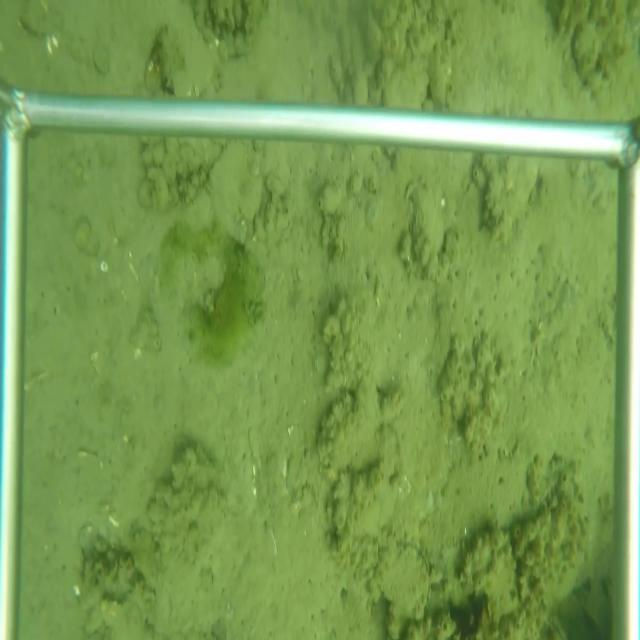Oyster-Closed: (366, 535, 433, 623)
Oyster-Indeterminate: (485, 159, 547, 238), (156, 23, 219, 99), (411, 184, 449, 268)
